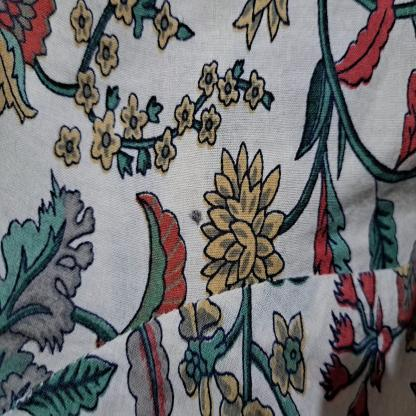spot: (186, 202, 210, 231)
